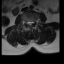CCS_normal: (29, 19, 31, 27)
LFS_normal: (33, 19, 35, 25)
LLS_stenosis: (31, 19, 33, 26)
RFS_normal: (25, 19, 27, 25)
RLS_normal: (27, 19, 29, 26)
